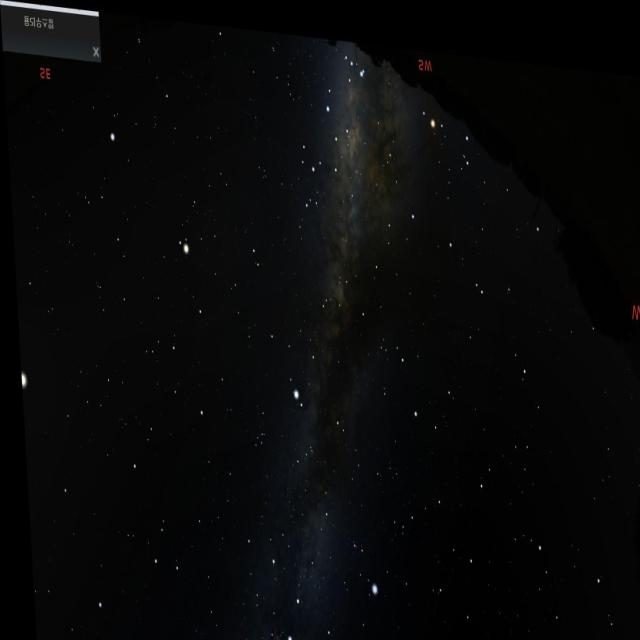aquila: (260, 264, 354, 414)
cygnus: (261, 464, 335, 640)
lyra: (337, 526, 374, 596)
sagittarius: (294, 60, 353, 192)
